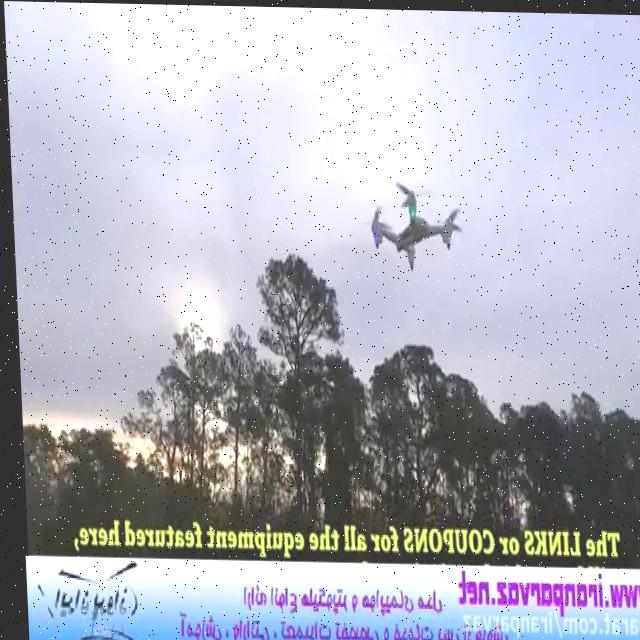drone: (354, 173, 465, 273)
